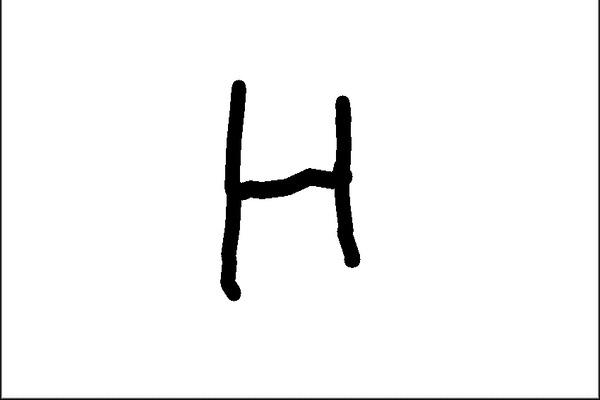H: (208, 74, 365, 301)
